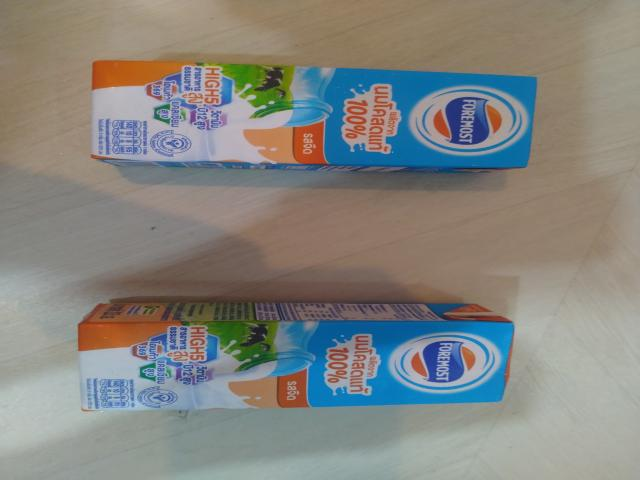drink_box: (80, 51, 560, 192), (49, 289, 530, 420)
